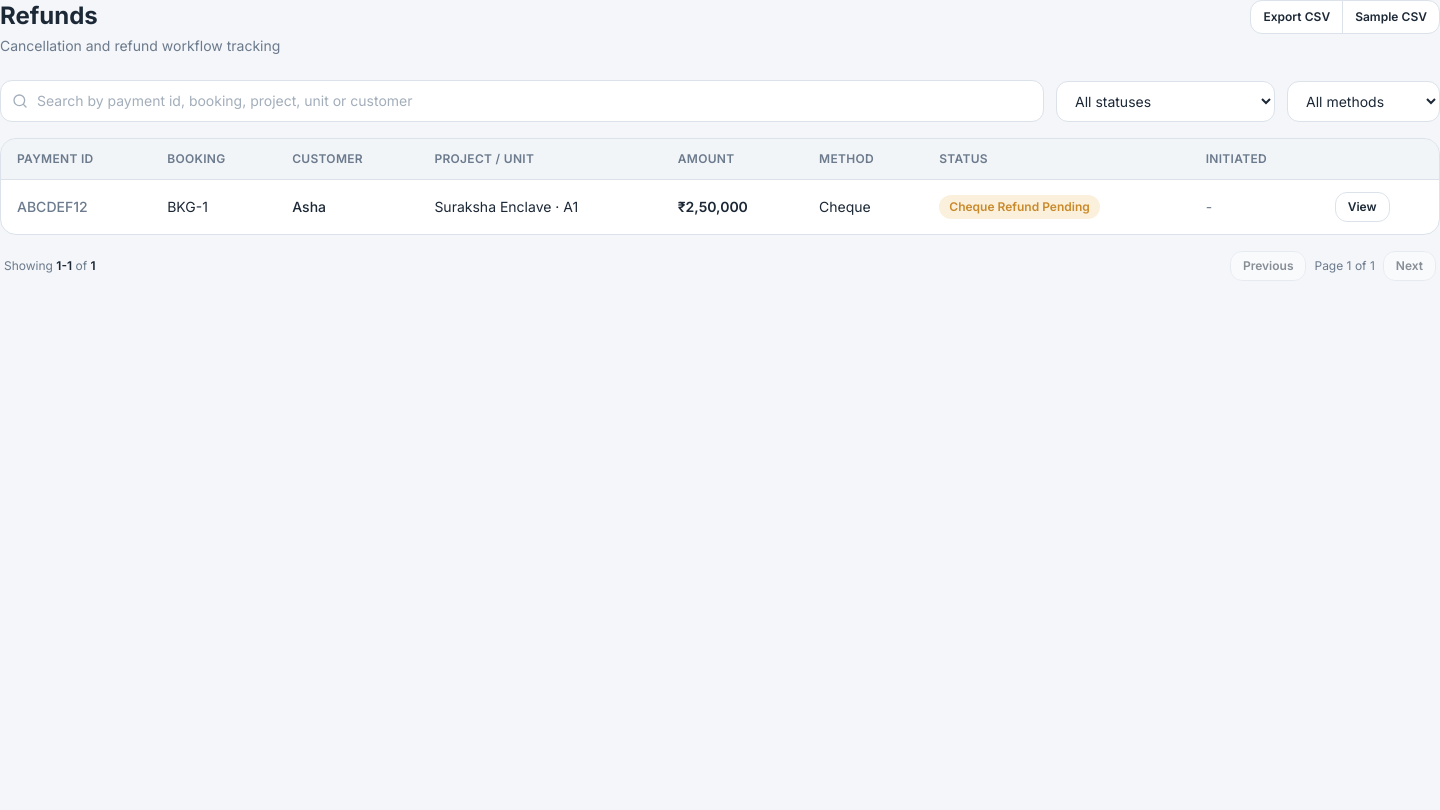
RefundsPage - a refund paid back by hand › lets a cheque refund be closed, with no gateway details or retry
Click the button "View" at (1362,207), box [1335,192,1390,222]
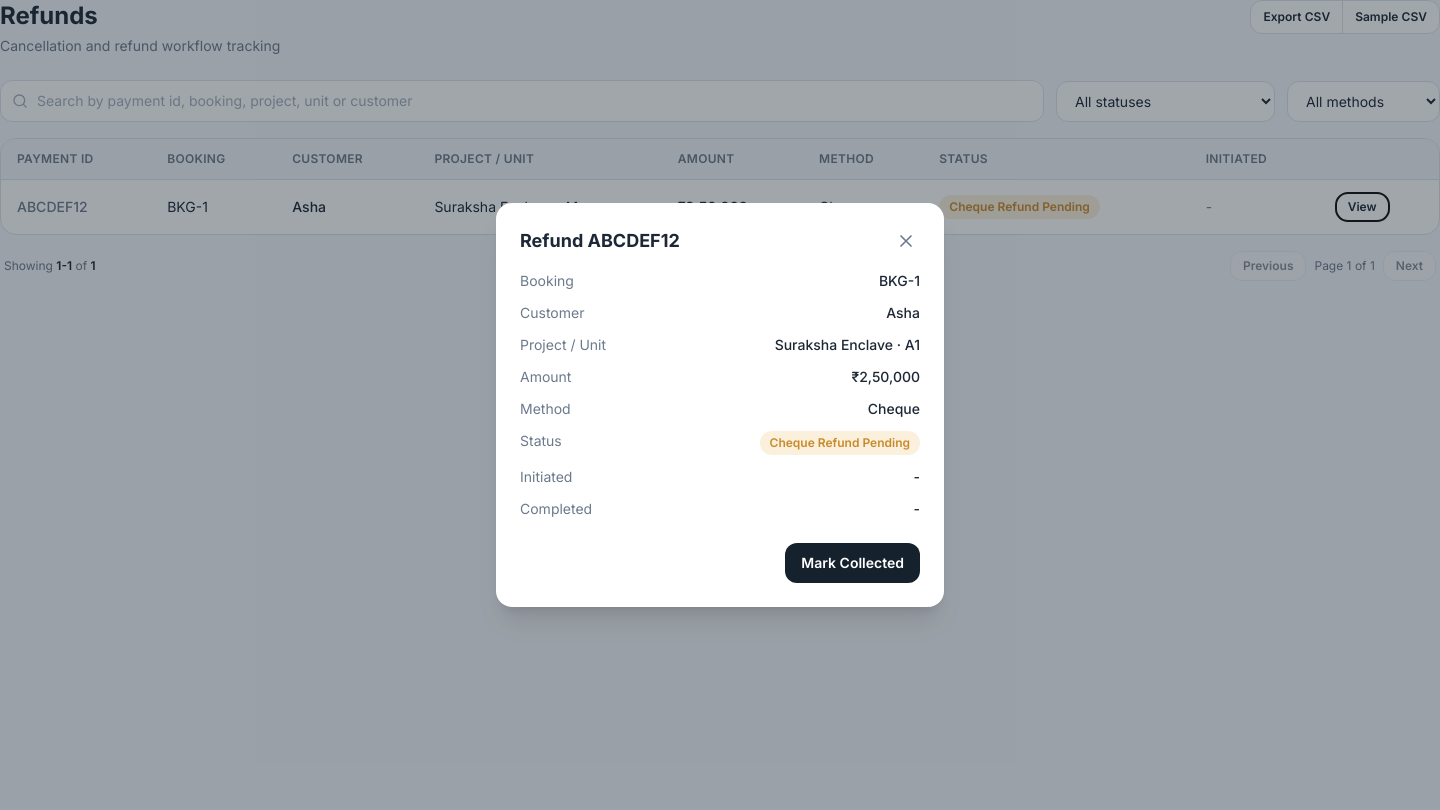
expect the text "Cheque" is shown: met, box [803,180,923,234]
expect the heading "Refund ABCDEF12" is shown: met, box [520,227,680,255]
Click the button "Mark Collected" at (853,563), box [785,543,920,583]
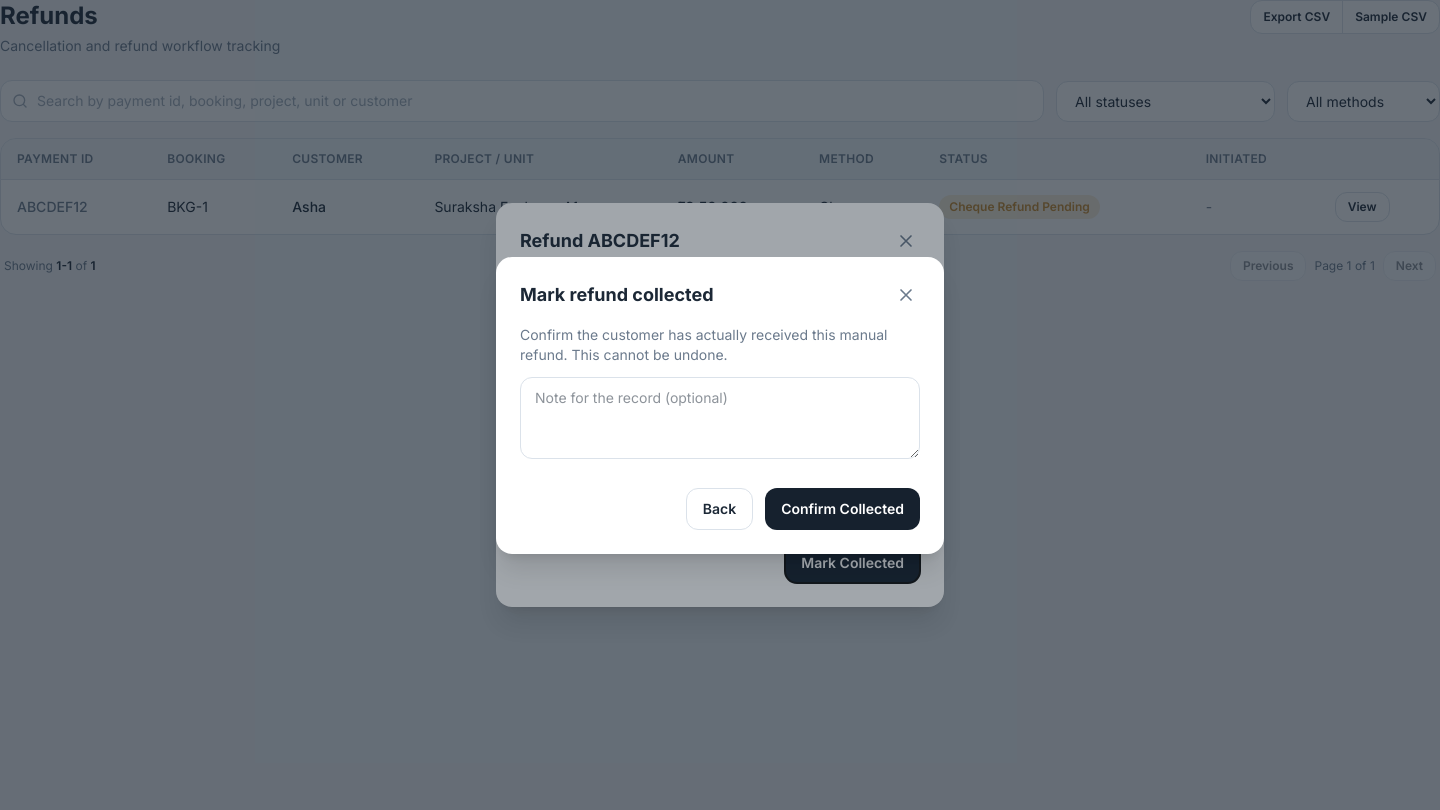
Click the button "Confirm Collected" at (843,508), box [765,488,920,530]
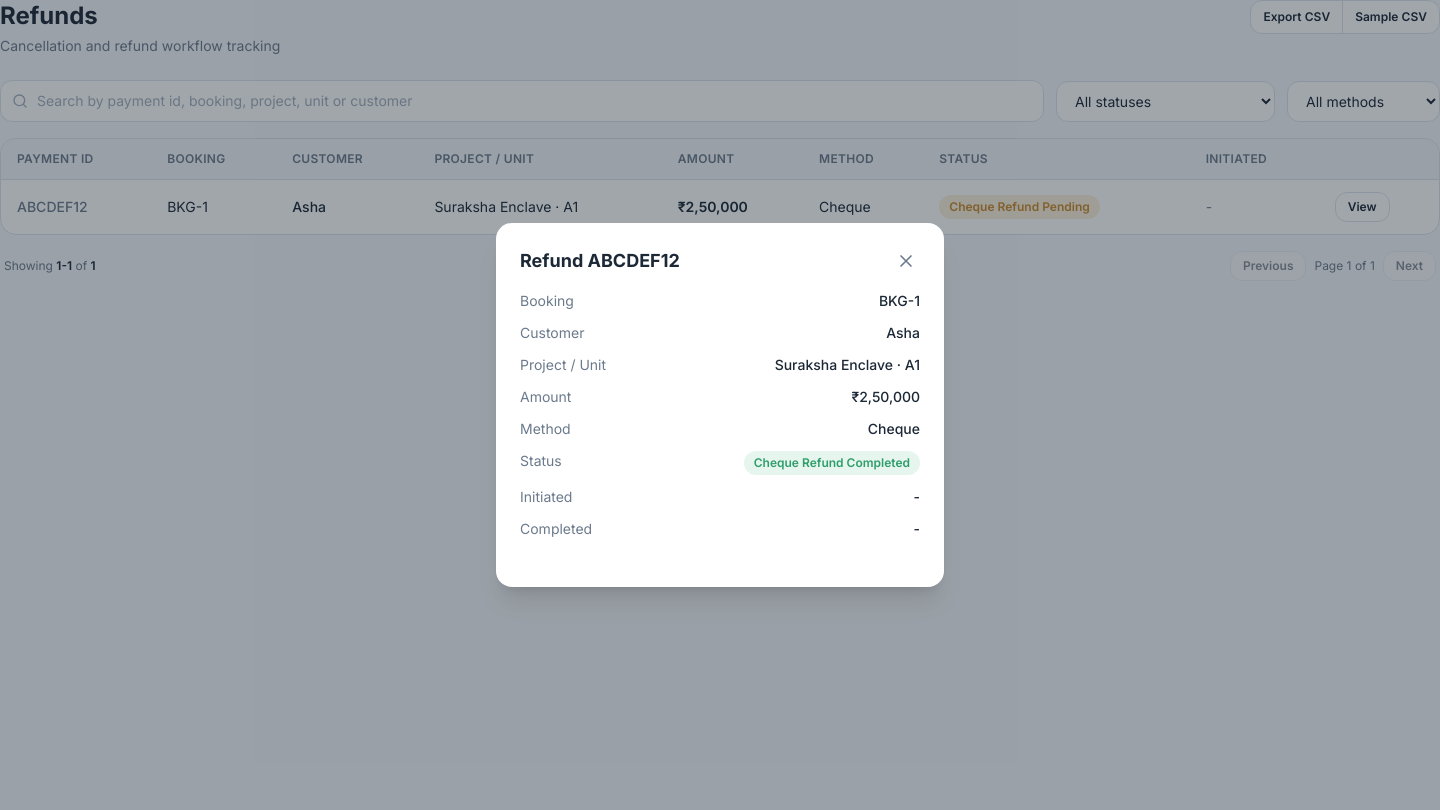
expect the text "Cheque Refund Completed" is shown: met, box [744,451,920,475]
expect the button "Mark Collected" is gone: met
